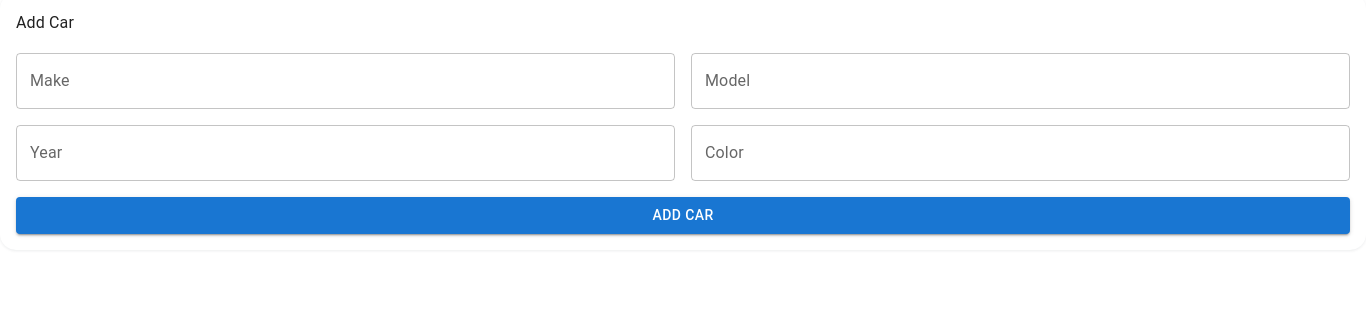
Test: AddCarForm component › shows validation errors when fields are empty
Click the button "Add Car": (683,215) [16, 197, 1350, 234]
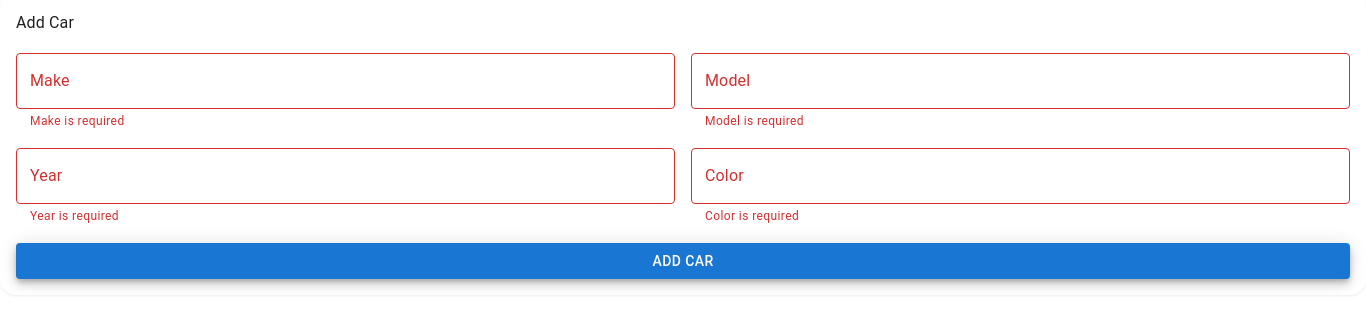
Check: the text "Make is required" is shown, box [30, 114, 125, 128]
Check: the text "Model is required" is shown, box [705, 114, 804, 128]
Check: the text "Year is required" is shown, box [30, 209, 119, 223]
